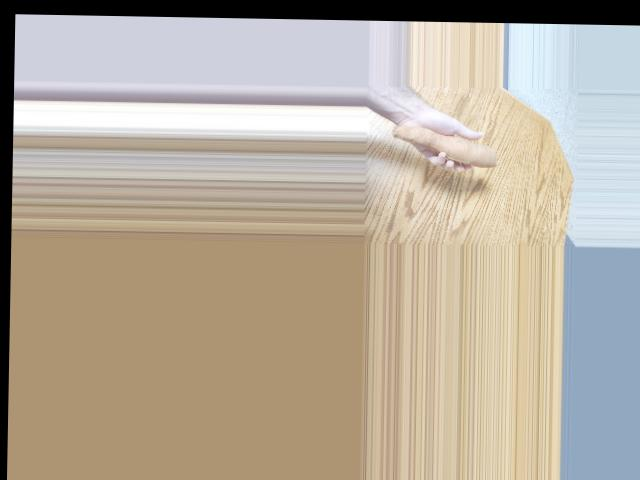sweet_potato: (381, 125, 498, 171)
